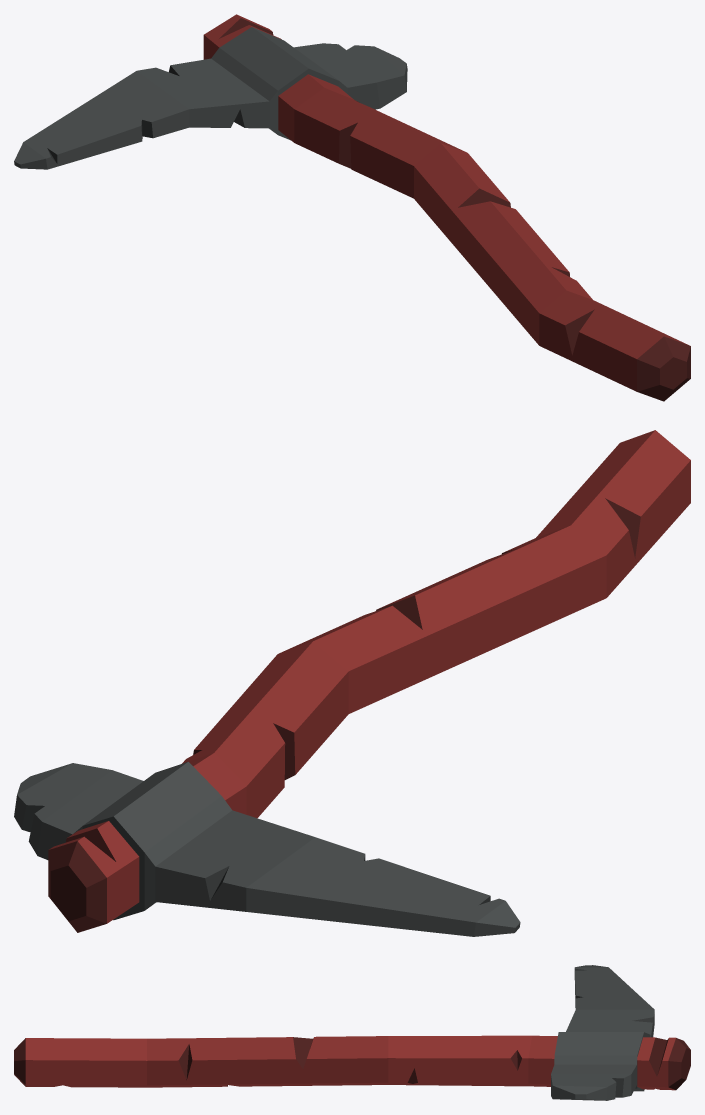
File: Pickaxe_3_Red.fbx
3 renders of one model, top to bottom at view 1: azimuth 30°, elevation 25°; view 2: azimuth 150°, elevation 25°; view 3: azimuth 270°, elevation 25°, orthographic. The views are drawn at different scales.
Parts seen in each view (by area): view 1: Pickaxe_3_Red_Part_1, Pickaxe_3_Red_Part_2, Pickaxe_3_Red_Part_3; view 2: Pickaxe_3_Red_Part_1, Pickaxe_3_Red_Part_2, Pickaxe_3_Red_Part_3; view 3: Pickaxe_3_Red_Part_1, Pickaxe_3_Red_Part_2, Pickaxe_3_Red_Part_3, Pickaxe_3_Red_Part_4.
Boxes of the visible parts, x1,y1,x2,y2 form: Pickaxe_3_Red_Part_1: [203, 14, 688, 391]; Pickaxe_3_Red_Part_2: [14, 27, 407, 169]; Pickaxe_3_Red_Part_3: [219, 18, 690, 401]; Pickaxe_3_Red_Part_1: [49, 430, 690, 923]; Pickaxe_3_Red_Part_2: [14, 761, 520, 936]; Pickaxe_3_Red_Part_3: [48, 498, 640, 932]; Pickaxe_3_Red_Part_1: [25, 1035, 675, 1090]; Pickaxe_3_Red_Part_2: [551, 965, 654, 1100]; Pickaxe_3_Red_Part_3: [14, 1037, 690, 1089]; Pickaxe_3_Red_Part_4: [574, 968, 653, 1097].
Bounding box in the file's own units: 24.49 × 5.28 × 50.13.
